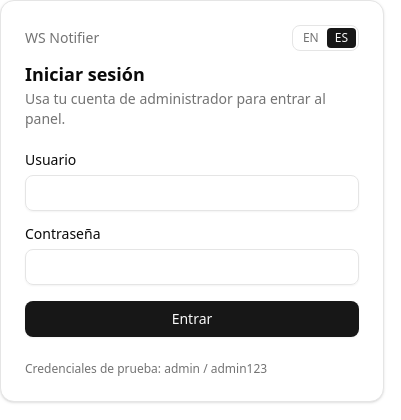
Scenario: <LoginForm /> › se muestra en español y permite cambiar de idioma
Expected: the heading "Iniciar sesión" is shown, [25,62,145,86]
Click the button "en". click: coordinates (311, 38)
box: [295,28,327,48]
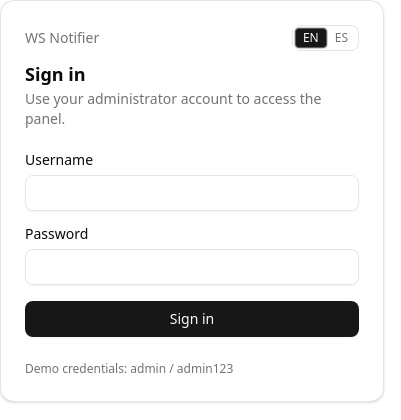
Result: the heading "Sign in" is shown at [25,62,86,86]
